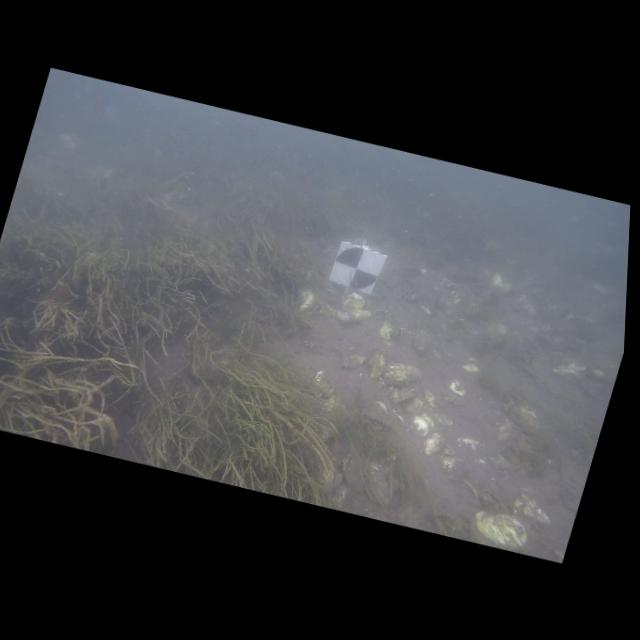Oyster-Closed: (475, 511, 527, 549), (382, 362, 421, 385), (341, 292, 369, 317), (368, 348, 385, 378), (314, 370, 333, 393), (342, 354, 365, 368)
Oyster-Indeterminate: (295, 286, 315, 313), (443, 380, 465, 404), (388, 386, 413, 403), (401, 396, 423, 415), (423, 433, 441, 455), (378, 320, 394, 341), (412, 416, 428, 435), (461, 357, 479, 373), (422, 390, 436, 408), (433, 412, 452, 425), (323, 396, 337, 411)
Oyster-Open: (360, 399, 388, 427), (335, 309, 370, 326), (339, 449, 353, 486), (391, 326, 403, 342)
